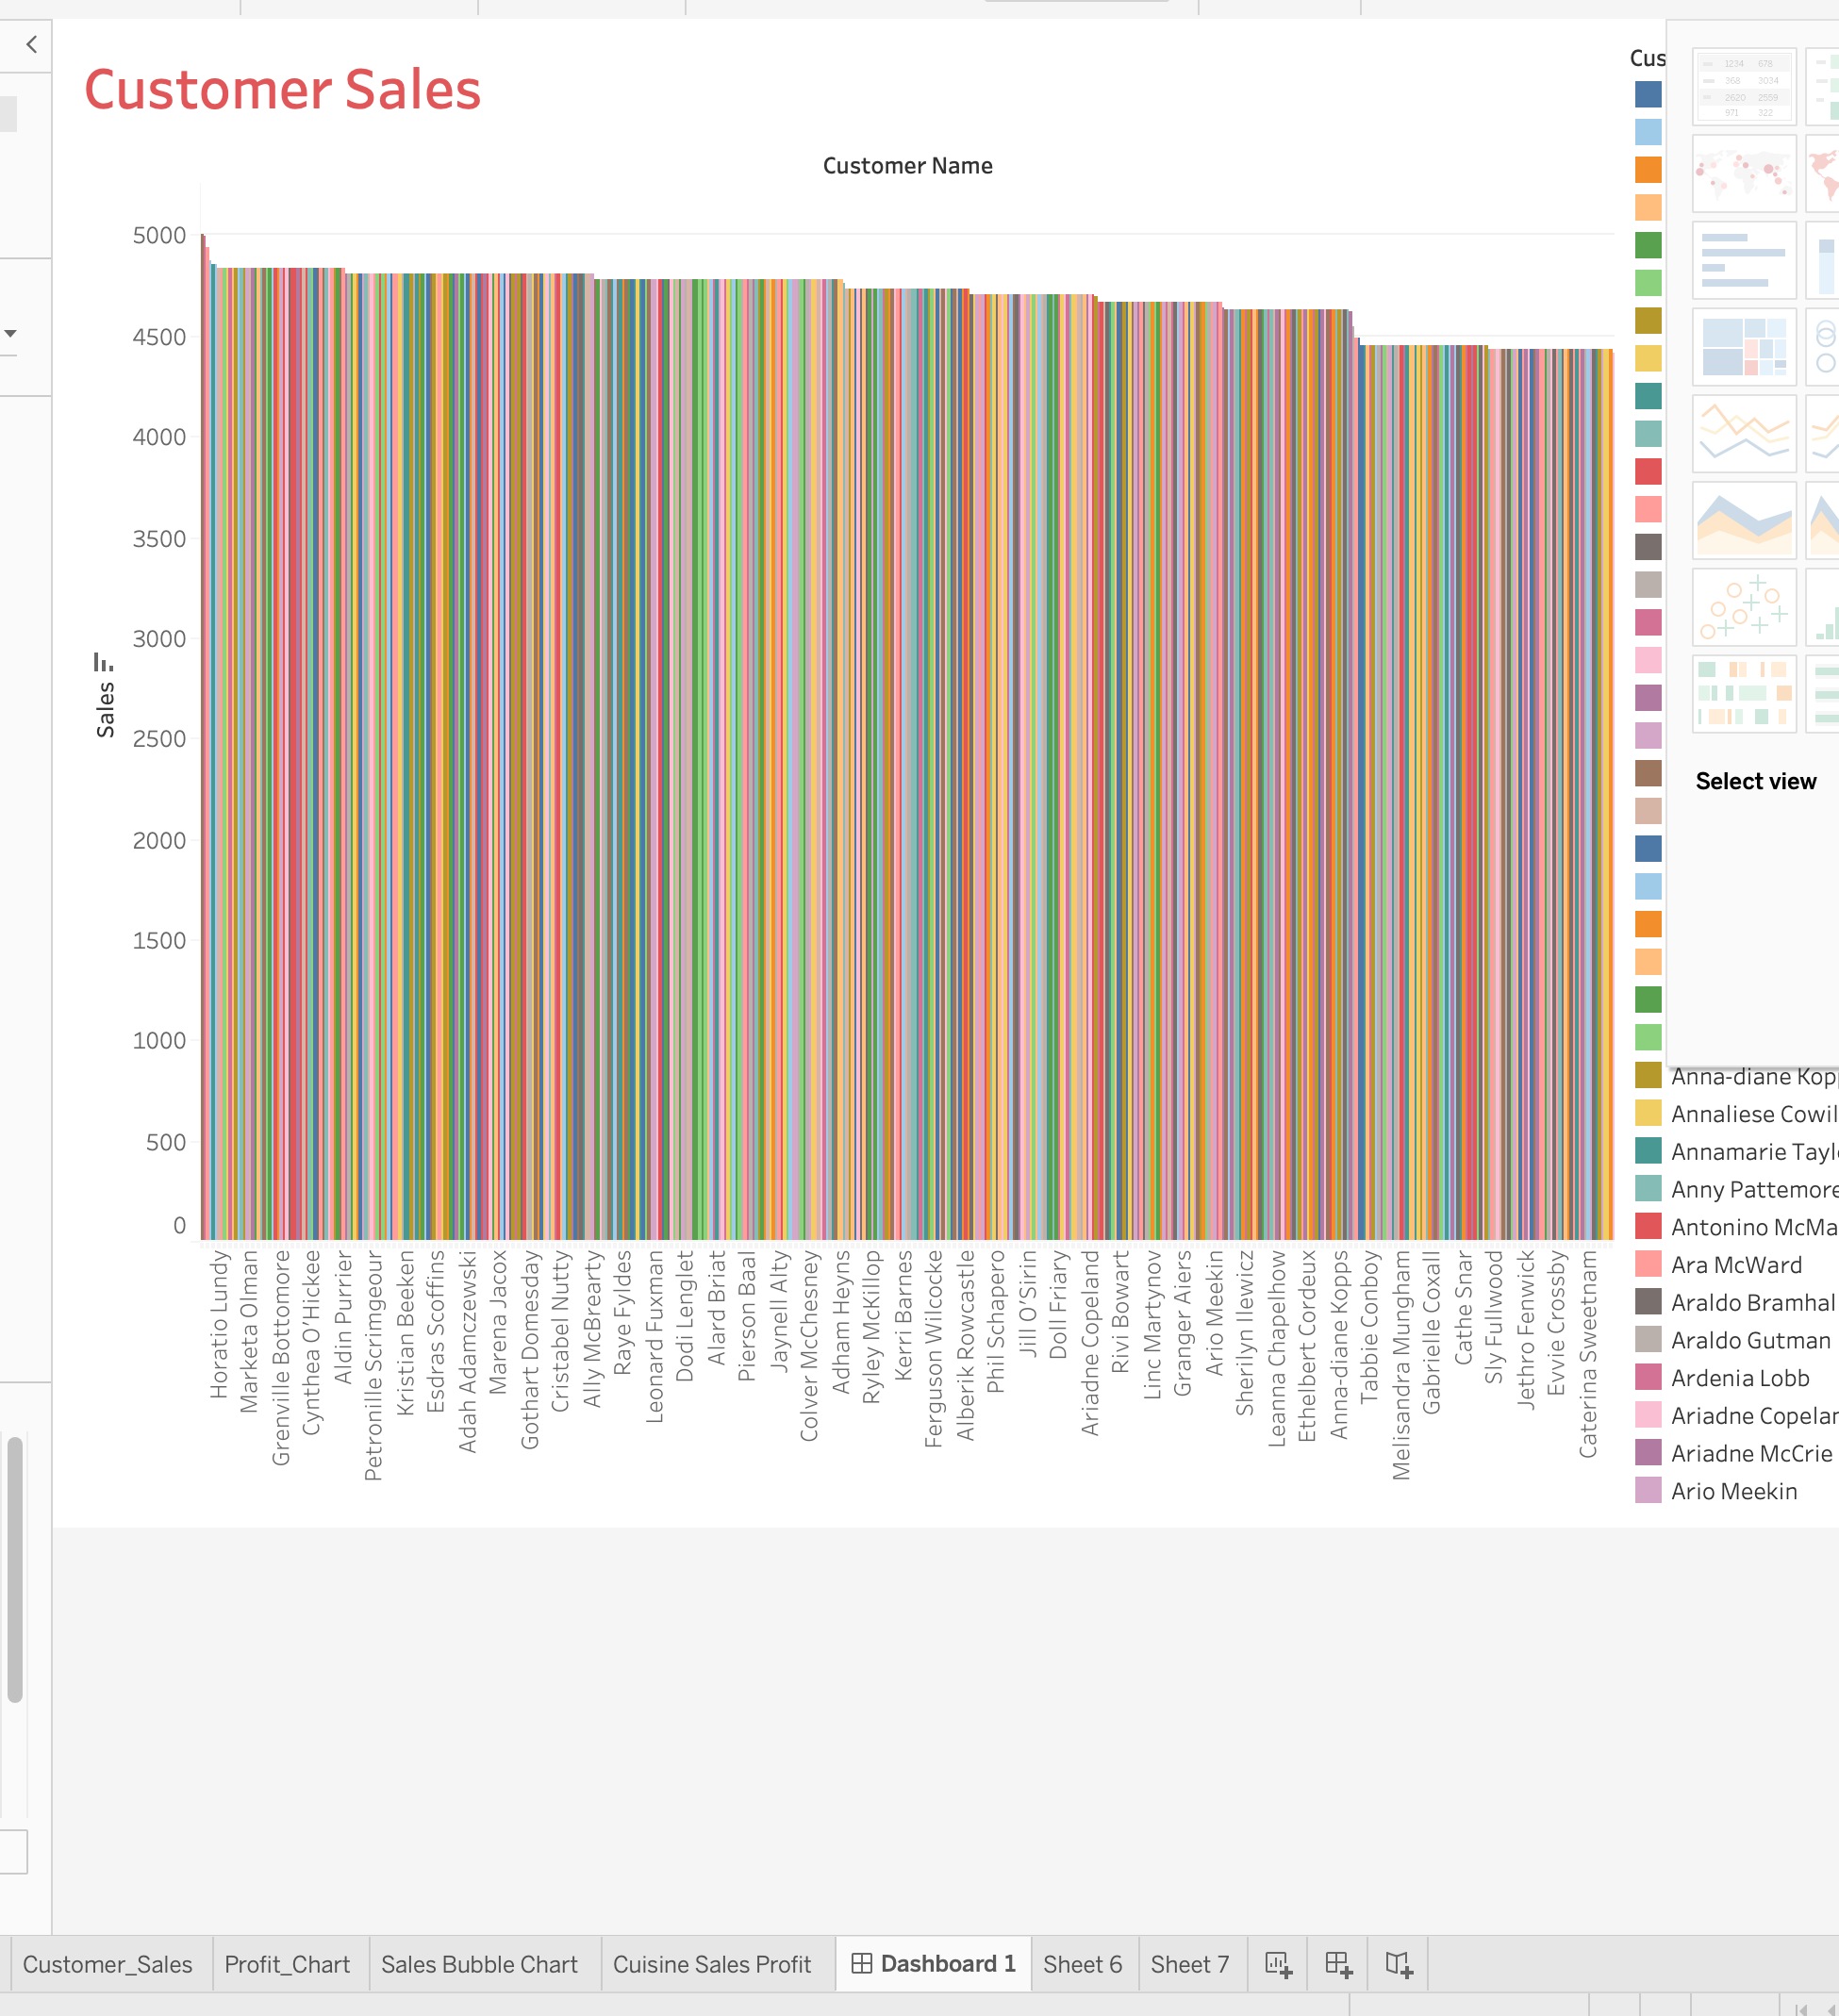

The page's visual inventory and layout, read from the dashboard file:
{"tool":"tableau","page":{"name":"Dashboard 1","canvas":[1000,800],"ordinal":0},"visuals":[{"type":"worksheet","title":"Customer_Sales","mark":"Automatic","rows":["Sales"],"cols":["Customer Name"],"box":[8,8,824,784]},{"type":"legend","title":"Customer_Sales","param":"[federated.179zb3p09rakdj187e6yi0gszc6y].[none:Customer Name:nk]","box":[832,8,160,784]}]}

Visuals, with their boxes on the page's 1000x800 design canvas (x1, y1, x2, y2). These are canvas units, not pixel positions in the 1839x2016 screenshot, which may show the page scaled, cropped or inside an application window:
"Customer_Sales" worksheet: {"left": 8, "top": 8, "right": 832, "bottom": 792}
"Customer_Sales" legend: {"left": 832, "top": 8, "right": 992, "bottom": 792}
